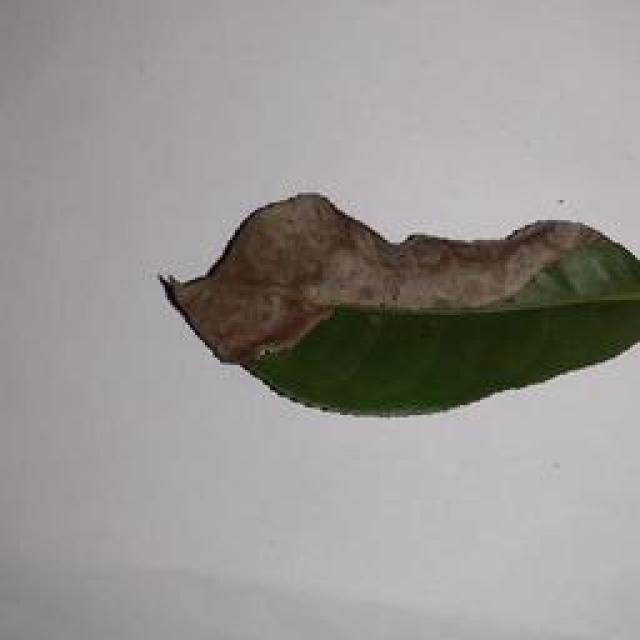Brown Blight: (140, 188, 640, 422)
